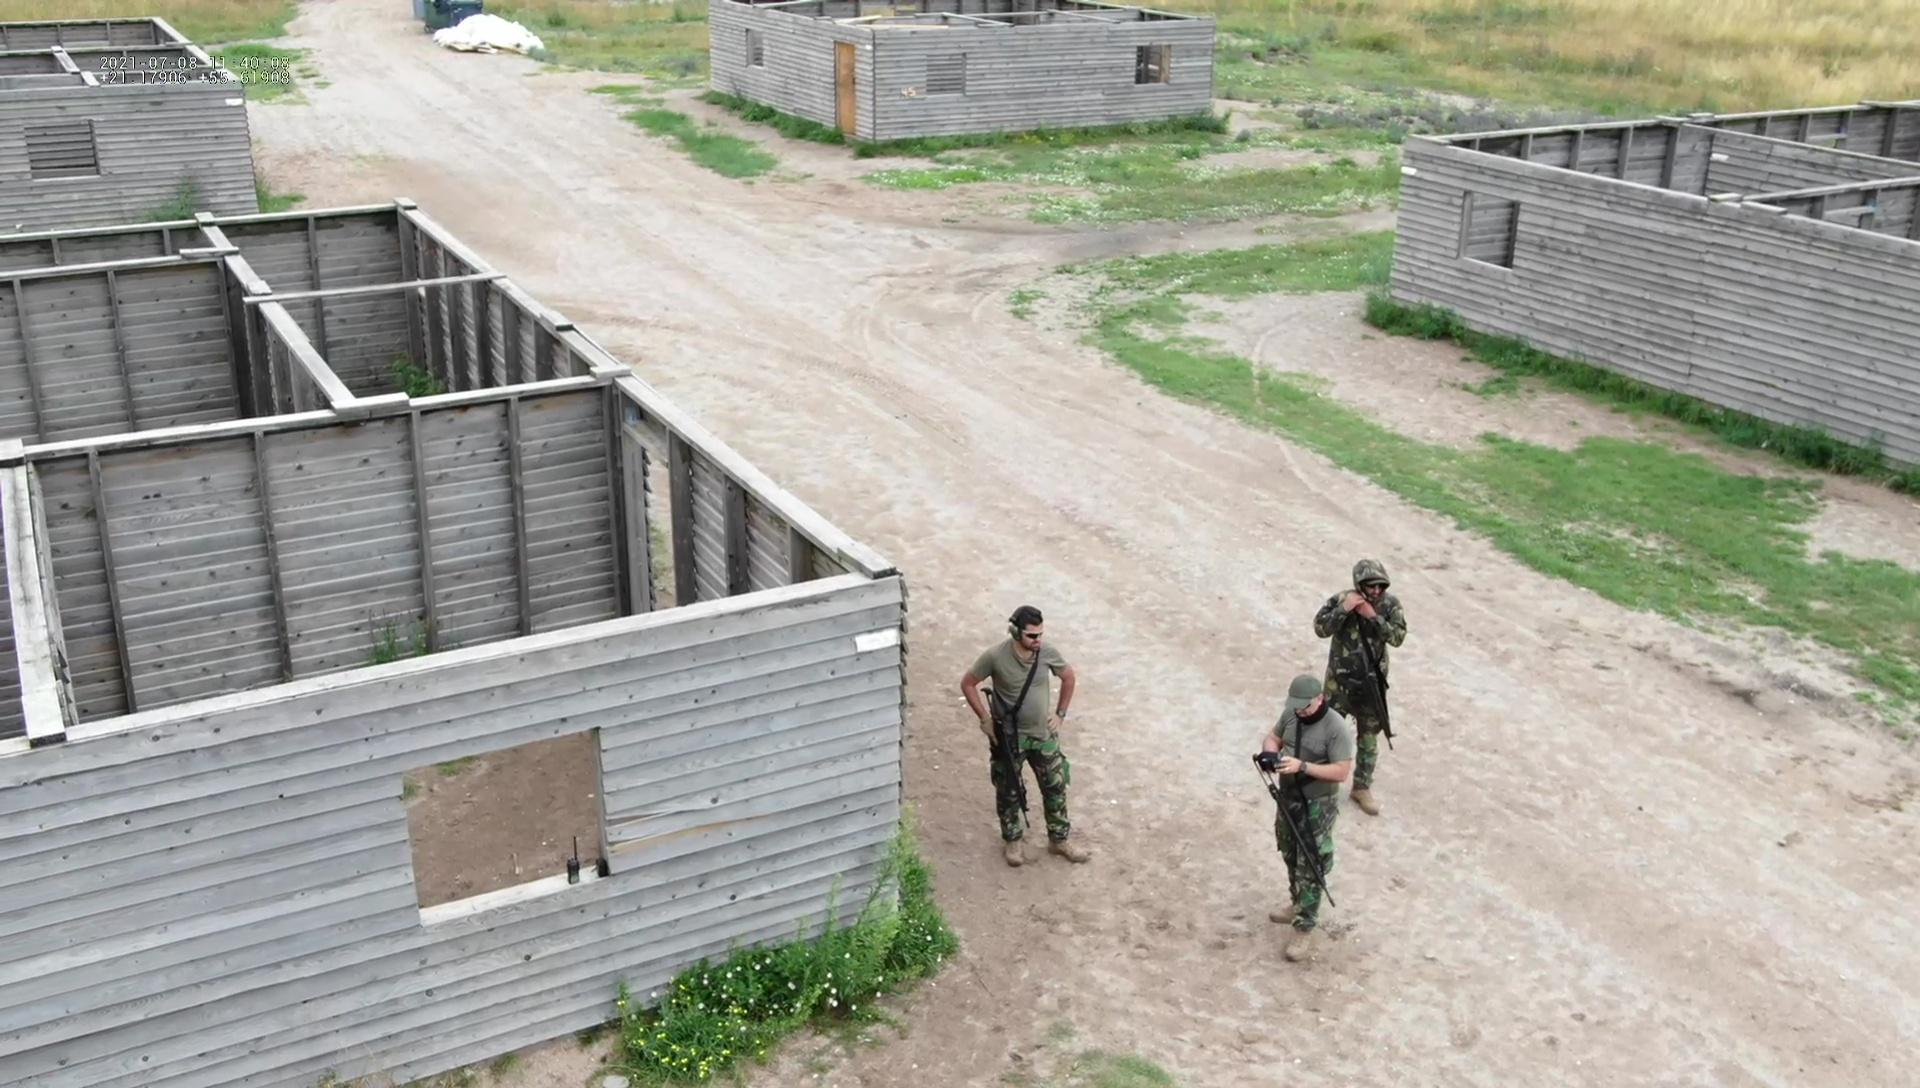Soldier: (957, 601, 1092, 869), (1255, 673, 1353, 967), (1313, 557, 1391, 820)
